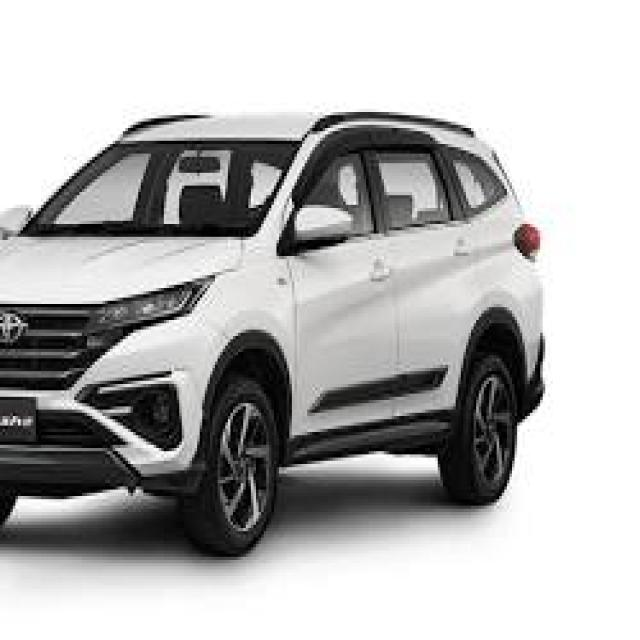kendaraan: (5, 34, 580, 613)
